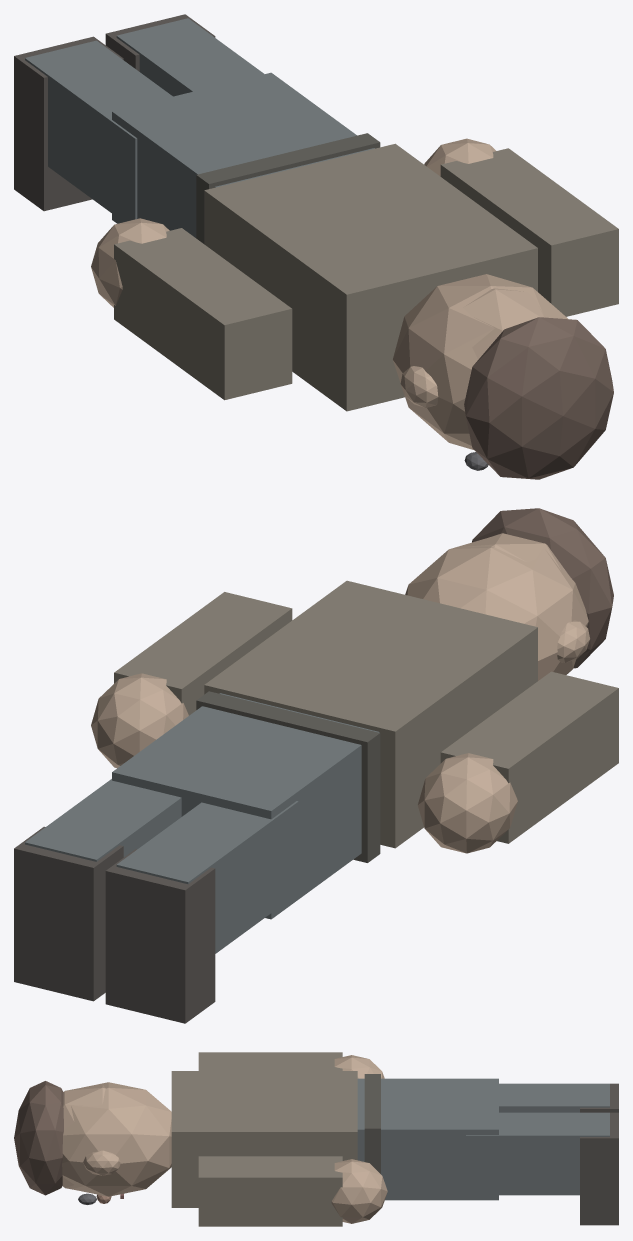
Rendered from hero_male_slim.glb.
The picture shows the model from 3 angles, top to bottom: view 1: azimuth 30°, elevation 25°; view 2: azimuth 150°, elevation 25°; view 3: azimuth 270°, elevation 25°; orthographic projection. The views are drawn at different scales.
Parts seen in each view (by area): view 1: part_00, part_06, part_19, part_01, part_12, part_04, part_03, part_10, part_05, part_18, part_07, part_02 (+3 smaller); view 2: part_00, part_01, part_05, part_06, part_04, part_11, part_03, part_12, part_07, part_10, part_19, part_13 (+3 smaller); view 3: part_00, part_01, part_12, part_10, part_03, part_19, part_11, part_04, part_06, part_13, part_18, part_02 (+3 smaller).
Boxes of the visible parts, x1,y1,x2,y2 form: part_00: (204,143,537,411); part_06: (114,228,292,400); part_19: (464,317,613,479); part_01: (112,72,374,237); part_12: (440,148,618,316); part_04: (25,40,172,221); part_03: (392,274,568,449); part_10: (116,18,264,96); part_05: (14,36,123,211); part_18: (196,133,380,243); part_07: (91,218,169,307); part_02: (463,288,546,359); part_00: (204,580,537,848); part_01: (112,693,379,919); part_05: (105,849,215,1023); part_06: (440,671,618,843); part_04: (116,801,298,953); part_11: (14,826,123,1001); part_03: (405,539,588,680); part_12: (114,592,292,715); part_07: (417,753,517,853); part_10: (25,779,181,861); part_19: (472,508,613,668); part_13: (91,673,188,768); part_00: (171,1071,357,1207); part_01: (357,1078,498,1200); part_12: (198,1156,342,1226); part_10: (466,1112,609,1195); part_03: (62,1082,171,1196); part_19: (14,1081,63,1195); part_11: (580,1112,618,1225); part_04: (499,1083,609,1112); part_06: (198,1052,342,1070); part_13: (331,1159,387,1223); part_18: (364,1074,380,1173); part_02: (62,1084,105,1189).
Size of the model in its own units: 1.03 by 0.435 by 2.02.
